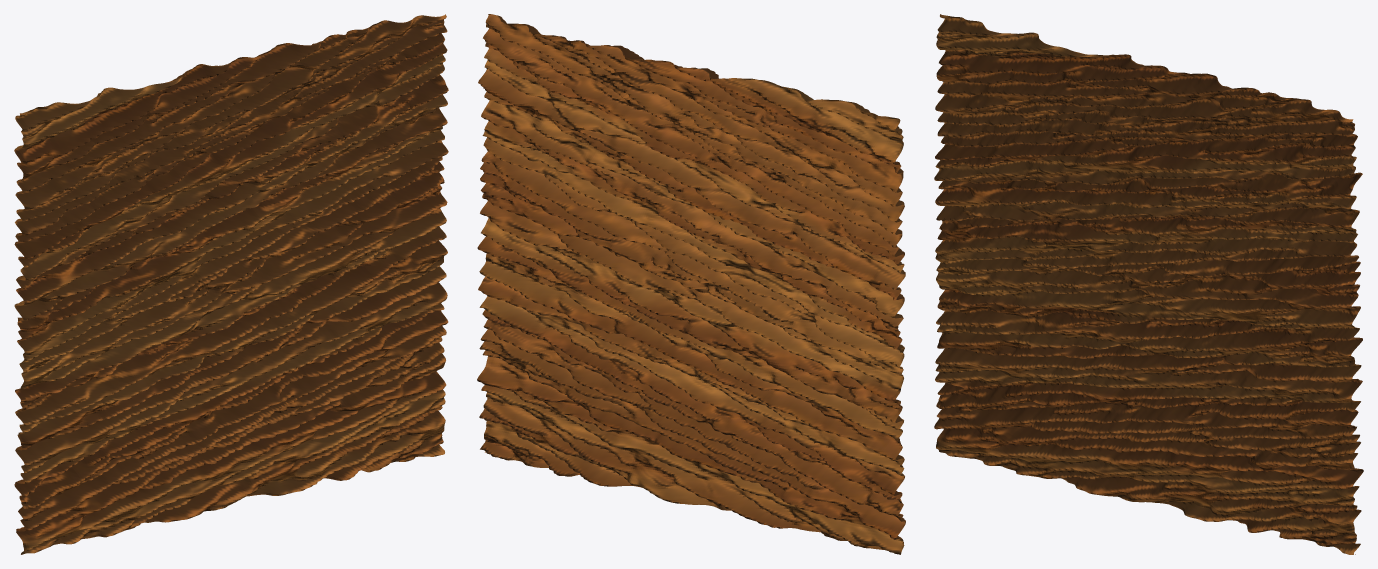
3 renders of one model, left to right at view 1: azimuth 30°, elevation 25°; view 2: azimuth 150°, elevation 25°; view 3: azimuth 330°, elevation 25°, orthographic.
Parts seen in each view (by area): view 1: sample_04_2_after_ft; view 2: sample_04_2_after_ft; view 3: sample_04_2_after_ft.
Boxes of the visible parts, <box> form: sample_04_2_after_ft: <box>14,14,448,554</box>; sample_04_2_after_ft: <box>477,14,905,554</box>; sample_04_2_after_ft: <box>934,14,1363,554</box>.
Size of the model in its own units: 1 by 1 by 0.0598.
1 material, 1 textured.
